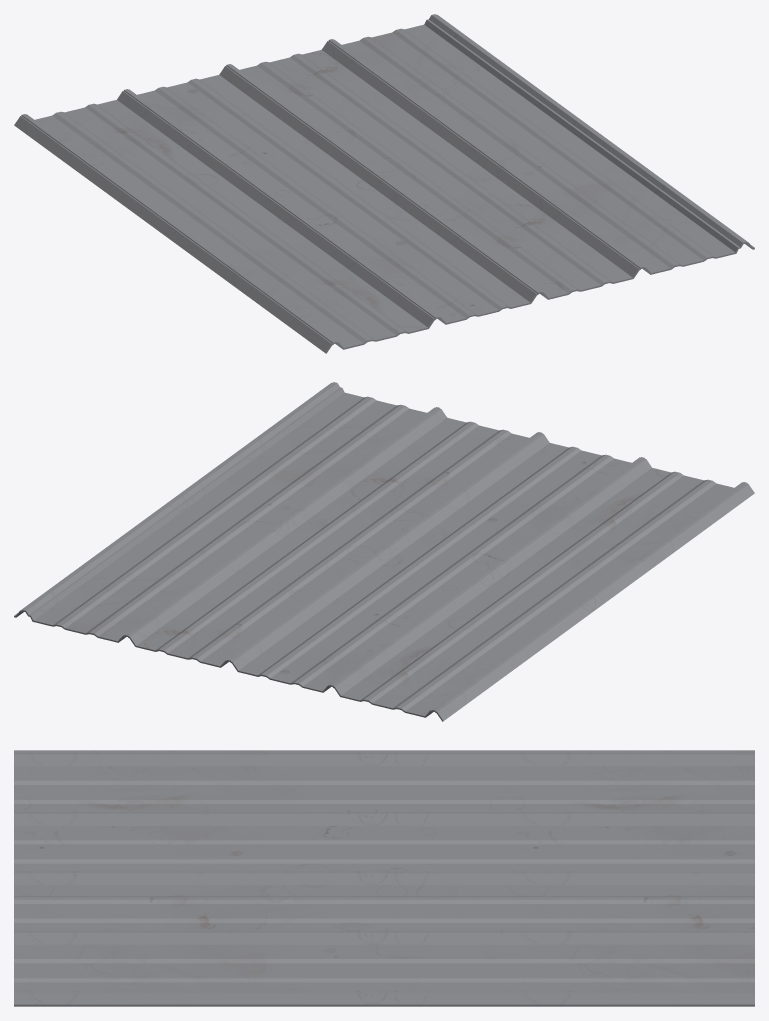
File: ClassicRoof.fbx
The picture shows the model from 3 angles, top to bottom: view 1: azimuth 30°, elevation 25°; view 2: azimuth 150°, elevation 25°; view 3: azimuth 270°, elevation 25°; orthographic projection. The views are drawn at different scales.
Parts seen in each view (by area): view 1: Classic_Rib_Panel; view 2: Classic_Rib_Panel; view 3: Classic_Rib_Panel.
Part boxes in pixels (<box>): Classic_Rib_Panel: <box>14,14,754,353</box>; Classic_Rib_Panel: <box>14,382,754,721</box>; Classic_Rib_Panel: <box>14,750,754,1006</box>.
Size of the model in its own units: 4.86 by 0.1035 by 6.11.
1 material, 1 textured.
